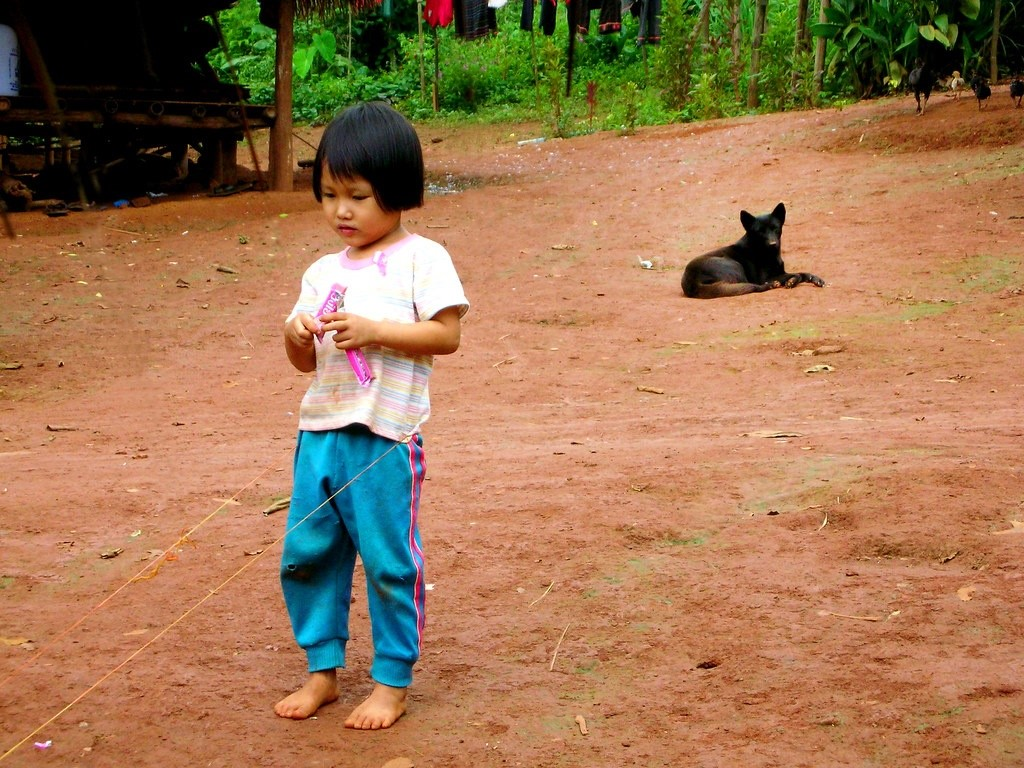face_no_mask: (309, 103, 421, 246)
